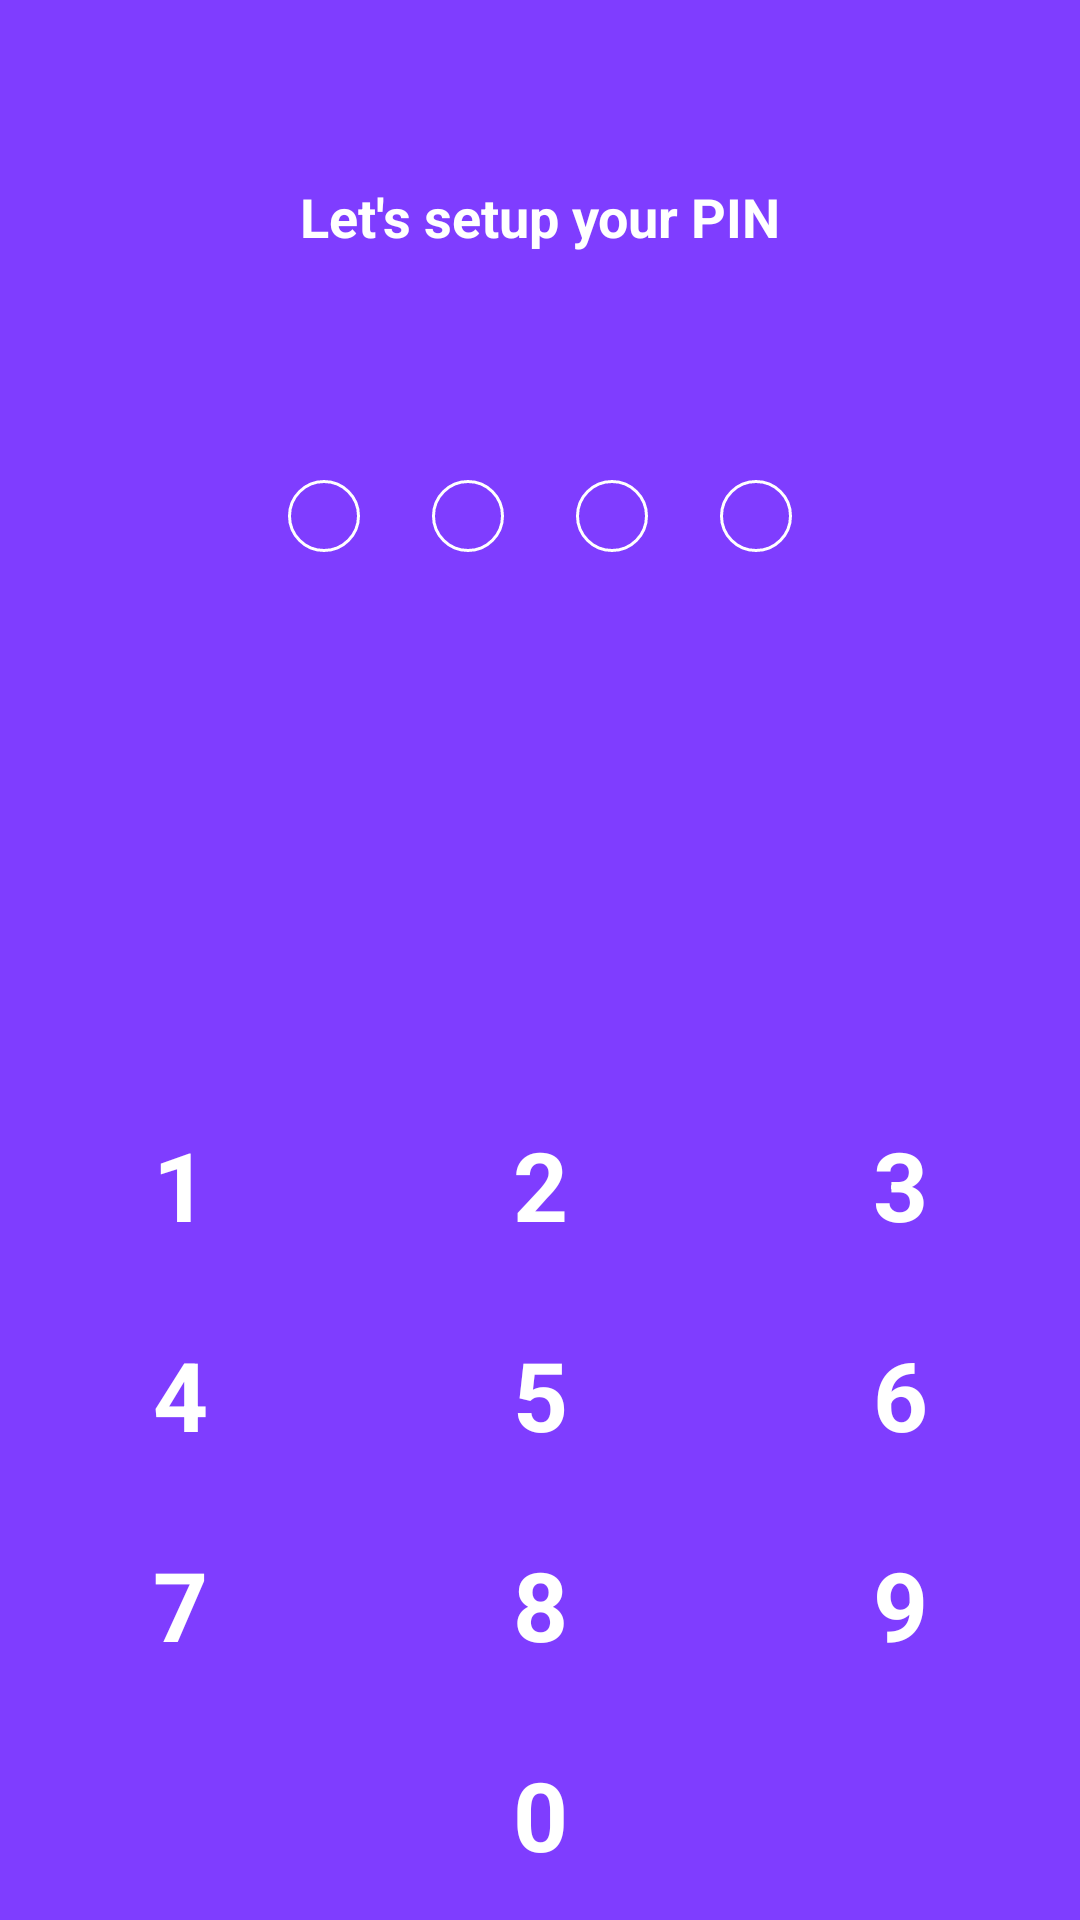

Where icons sit on this 1080 x 1920 app screen, as (x1, y1, x2, y2):
pin empty: (288, 480, 360, 552), (432, 480, 504, 552), (576, 480, 648, 552), (720, 480, 792, 552)
